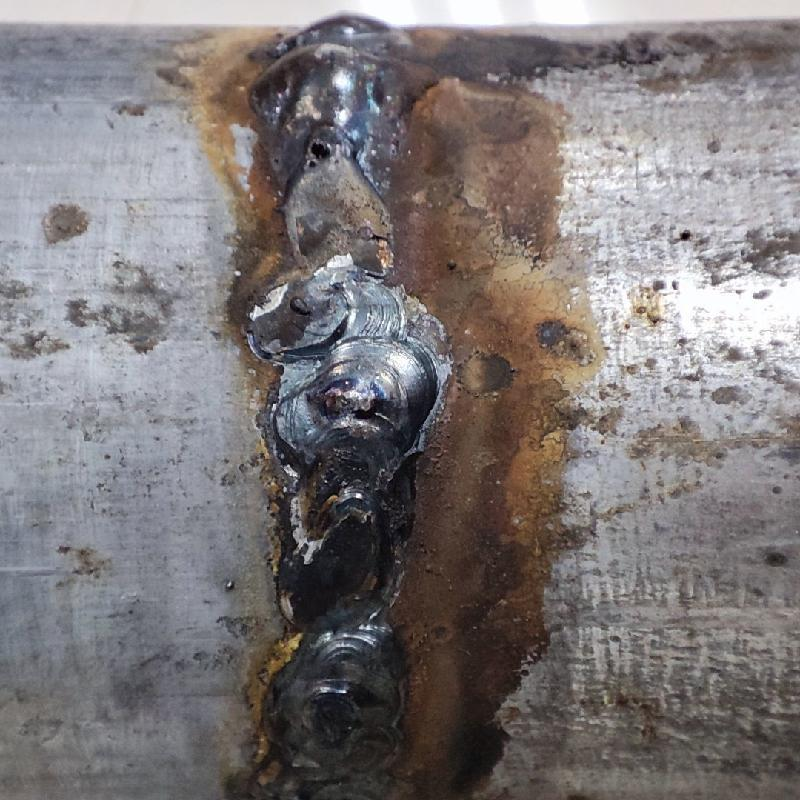Not_fully_soldered: (274, 144, 400, 278)
Surface_pores: (301, 132, 347, 170)
Weld: (258, 14, 388, 142)
wrong_size: (258, 278, 433, 779)
